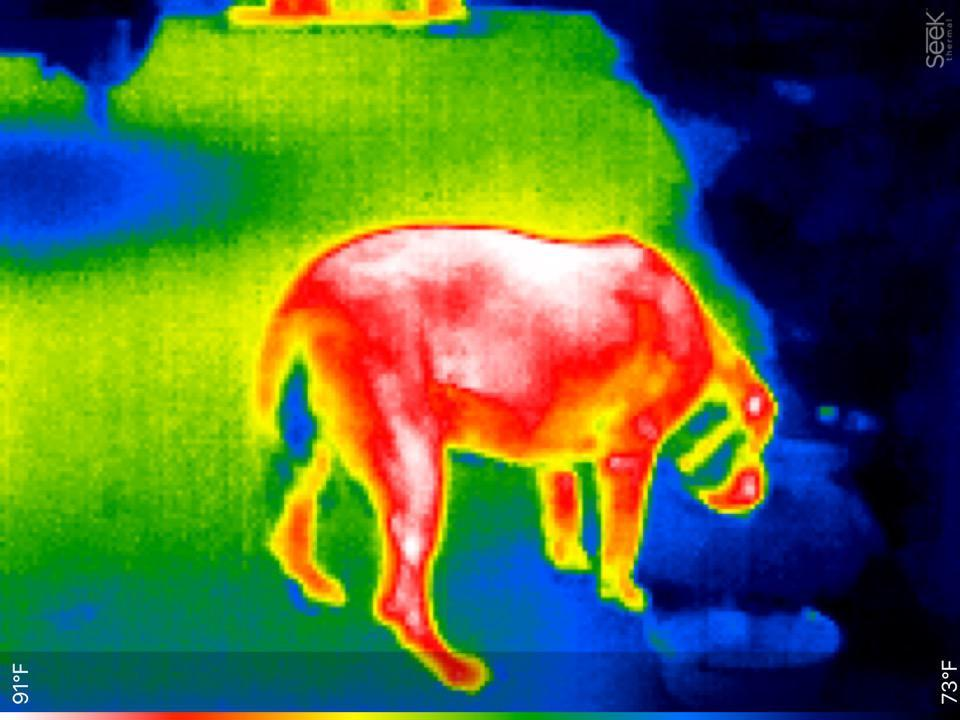dog: (237, 215, 783, 693)
